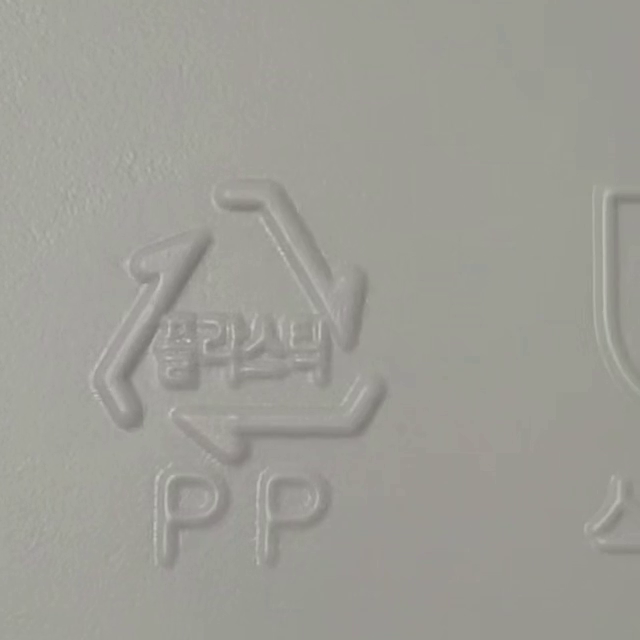Plastic: (90, 182, 393, 468)
